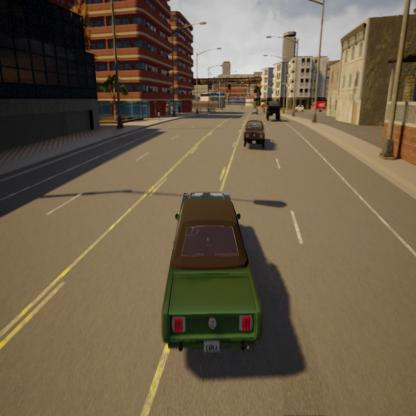Cars: (158, 171, 266, 367), (242, 113, 270, 158), (265, 95, 284, 126)
